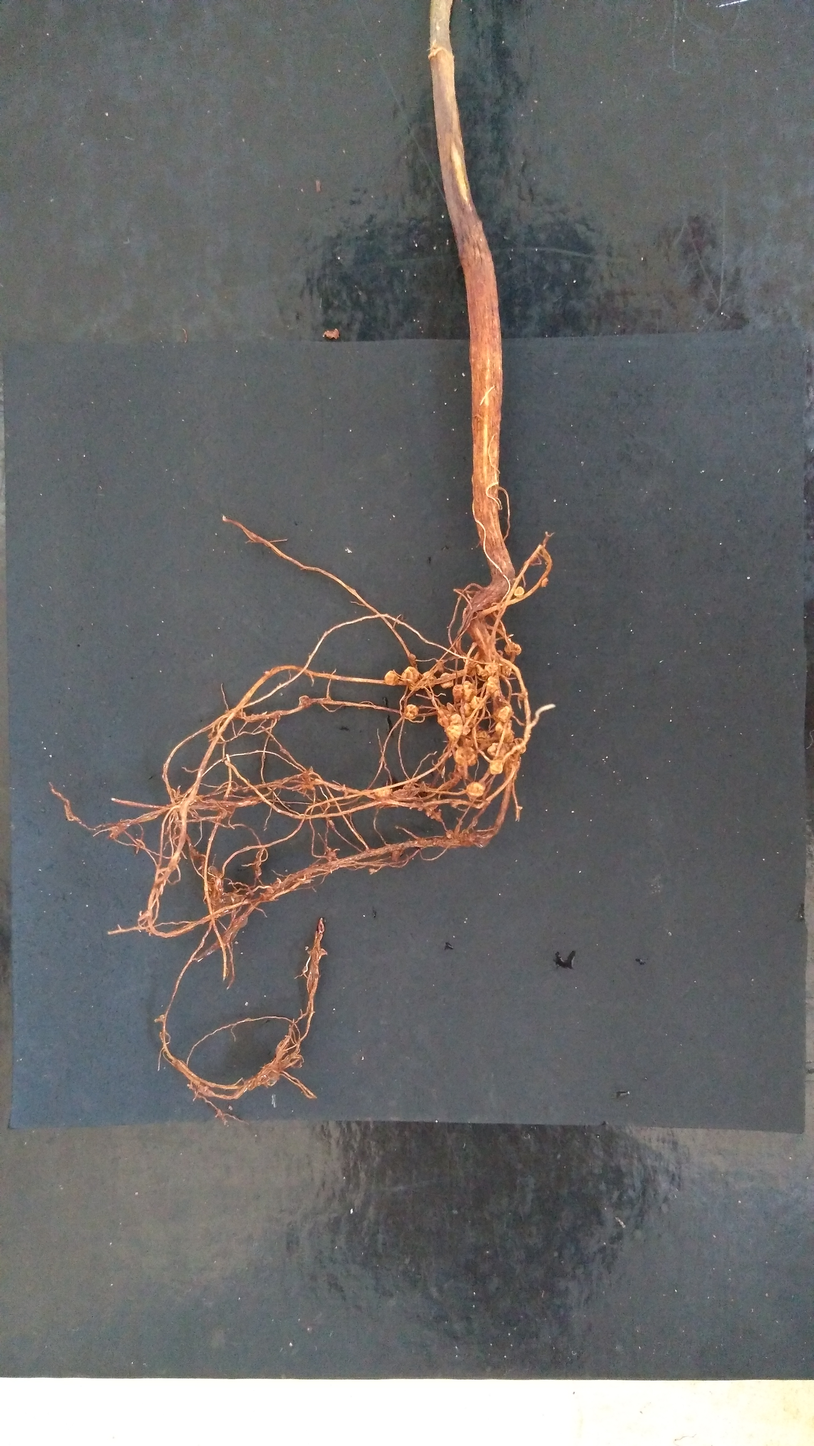nodule: (212, 892, 246, 915), (461, 724, 490, 748), (409, 671, 437, 690), (206, 875, 223, 904), (454, 746, 478, 766), (445, 714, 463, 740), (264, 881, 285, 902), (505, 757, 520, 780), (487, 742, 508, 758), (476, 662, 498, 676), (467, 781, 486, 797), (401, 666, 419, 682), (463, 681, 476, 702), (459, 701, 475, 716), (495, 721, 512, 735), (504, 642, 521, 656), (486, 675, 499, 693), (384, 670, 398, 686), (497, 706, 511, 722), (490, 758, 503, 775), (438, 709, 450, 727), (452, 684, 464, 702), (464, 659, 476, 677), (440, 673, 454, 688), (514, 737, 526, 754), (471, 696, 485, 710), (374, 788, 392, 798), (405, 705, 418, 718), (473, 652, 486, 665), (324, 850, 337, 862), (503, 730, 514, 743), (502, 662, 512, 676), (391, 849, 401, 861), (429, 798, 438, 810), (299, 696, 309, 706), (447, 702, 457, 712), (436, 661, 444, 673), (514, 587, 524, 596), (446, 830, 454, 839), (541, 578, 548, 588), (409, 653, 416, 660)
